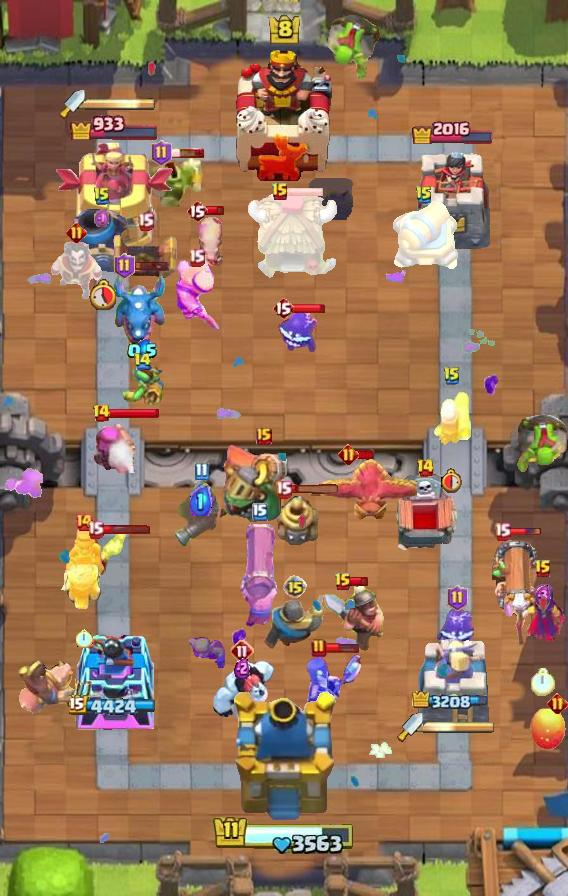bar: (108, 407, 160, 419), (289, 484, 341, 495), (101, 524, 151, 535), (133, 260, 170, 272), (287, 186, 324, 198), (169, 147, 205, 159), (326, 642, 359, 654), (292, 303, 326, 314), (508, 527, 542, 537), (357, 449, 376, 461), (350, 576, 369, 587), (206, 205, 225, 216)
bar-level: (230, 639, 254, 663), (283, 575, 307, 599), (447, 585, 468, 611), (114, 253, 135, 279), (151, 140, 172, 166), (272, 296, 294, 320), (186, 199, 208, 223), (547, 693, 568, 714), (338, 444, 359, 465), (66, 222, 87, 243), (74, 512, 94, 532), (416, 458, 435, 478), (92, 403, 111, 423), (133, 352, 152, 371), (334, 572, 352, 592), (534, 559, 552, 579), (443, 366, 461, 386), (93, 186, 111, 206), (415, 185, 433, 205), (271, 182, 289, 202), (494, 522, 511, 541), (87, 520, 104, 539), (275, 480, 292, 499), (188, 248, 205, 267), (137, 212, 154, 231), (311, 638, 327, 658), (252, 503, 268, 521), (256, 427, 272, 445), (194, 462, 209, 481)
barbarian-evolution: (174, 258, 219, 329)
bomb: (309, 178, 353, 220)
clock: (89, 279, 116, 310), (531, 668, 555, 696), (441, 468, 464, 493), (76, 629, 93, 648)
dagger-duchess-tower: (55, 142, 174, 256), (416, 637, 490, 731)
dagger-duchess-tower-bar: (423, 720, 495, 734), (85, 97, 155, 111)
electro-dragon: (110, 270, 168, 346)
electro-spirit: (275, 309, 317, 355), (437, 606, 477, 650)
electro-wizard: (48, 239, 104, 303)
elixir: (127, 339, 158, 363), (190, 486, 212, 516), (234, 657, 250, 680), (94, 208, 111, 229), (535, 585, 551, 607)
fire-spirit: (85, 530, 129, 576)
firecracker: (91, 417, 141, 473), (431, 389, 473, 447)
goblin: (187, 635, 229, 677)
goblin-ball: (325, 12, 383, 84), (514, 413, 568, 475)
goblin-brawler: (144, 157, 204, 207)
hog: (195, 213, 229, 269)
king-tower: (227, 692, 341, 826), (232, 45, 336, 181)
king-tower-bar: (212, 815, 356, 857)
knight: (263, 595, 327, 650)
miner: (323, 578, 391, 654)
mortar: (72, 208, 132, 272)
musketeer: (173, 481, 229, 547)
night-witch: (302, 652, 364, 724)
phoenix-egg: (528, 707, 568, 751)
queen-tower: (410, 145, 496, 256), (73, 623, 155, 731)
ram-rider: (61, 526, 107, 610)
spear-goblin: (118, 364, 166, 406)
tesla: (109, 233, 181, 281)
tower-bar: (69, 112, 160, 140), (411, 118, 495, 144), (69, 695, 160, 718), (412, 691, 494, 713)
witch: (504, 581, 568, 651)
zappy: (275, 493, 321, 545)
